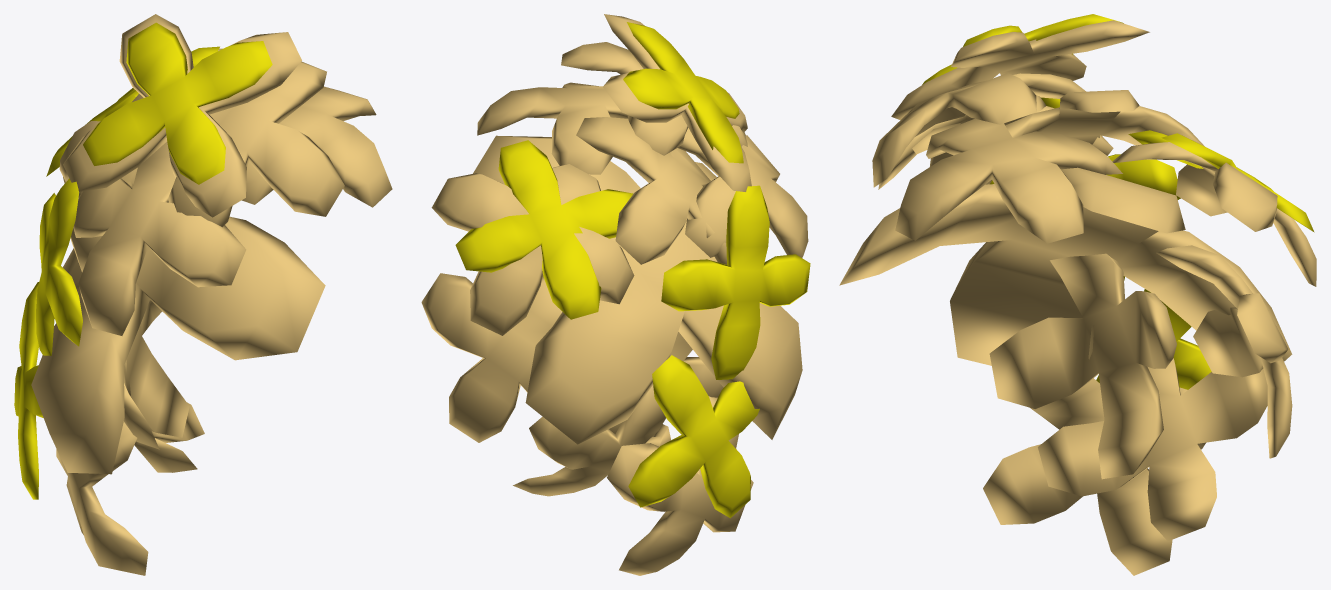
File: Flowers1.fbx
3 renders of one model, left to right at view 1: azimuth 30°, elevation 25°; view 2: azimuth 150°, elevation 25°; view 3: azimuth 270°, elevation 25°, orthographic. The views are drawn at different scales.
Parts seen in each view (by area): view 1: Plane_071; view 2: Plane_071; view 3: Plane_071.
Part boxes in pixels (x1,y1,x2,y2): Plane_071: (14, 14, 392, 575); Plane_071: (421, 14, 810, 575); Plane_071: (839, 14, 1316, 575).
Bounding box in the file's own units: 0.0954 × 0.1481 × 0.1096.
